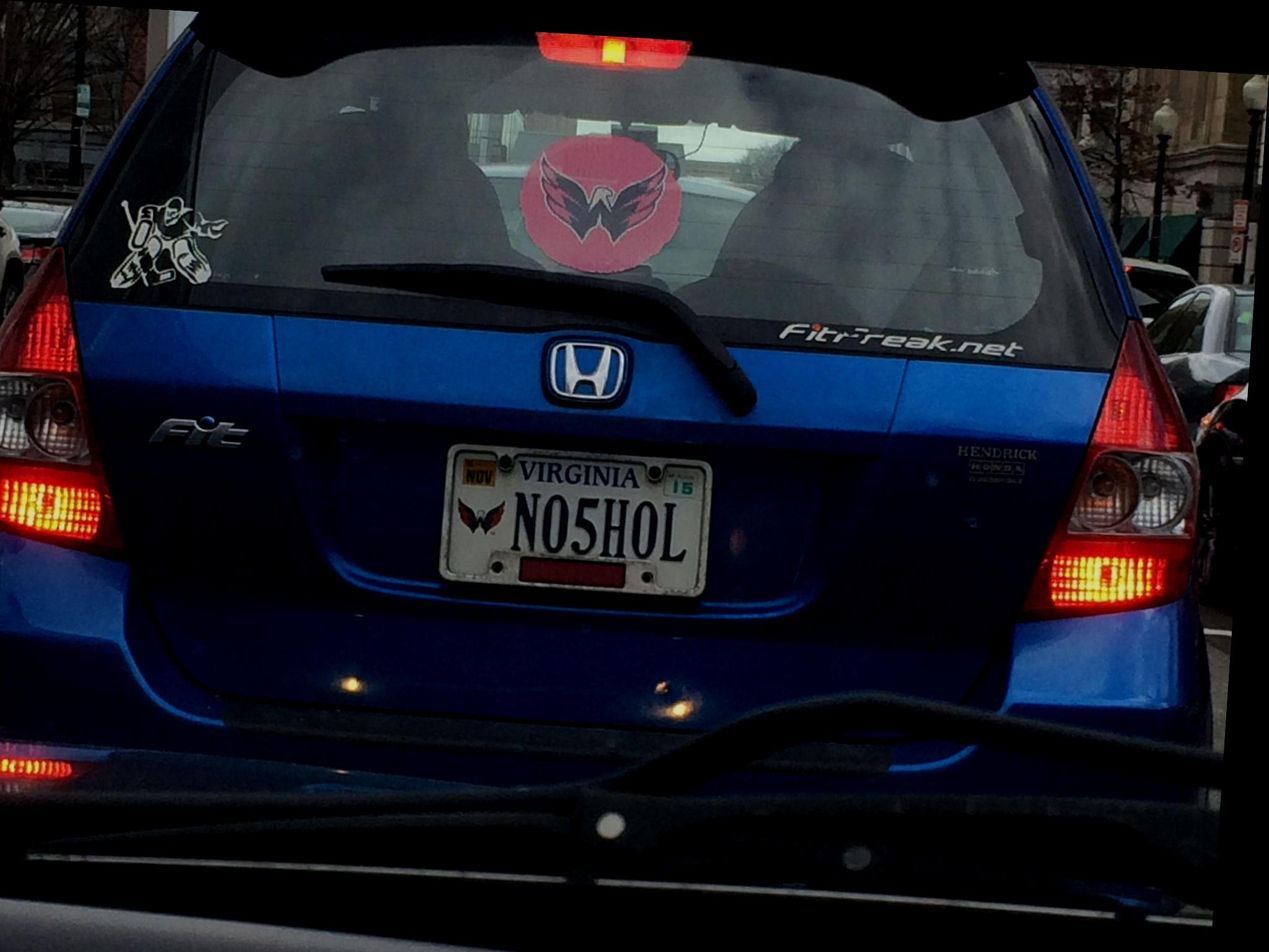License_Plate: (427, 422, 727, 623)
